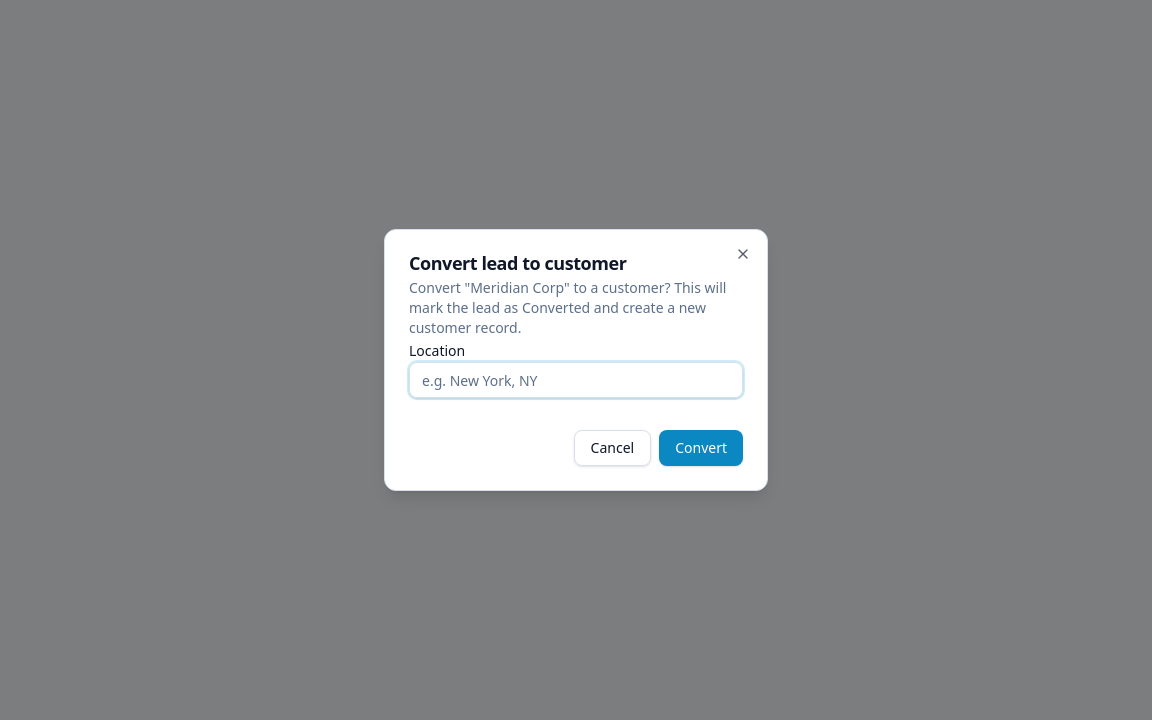
Test: ConvertLeadDialog › shows a validation error when converting without a location
Click the button "Convert": [701, 448] box [659,430,743,466]
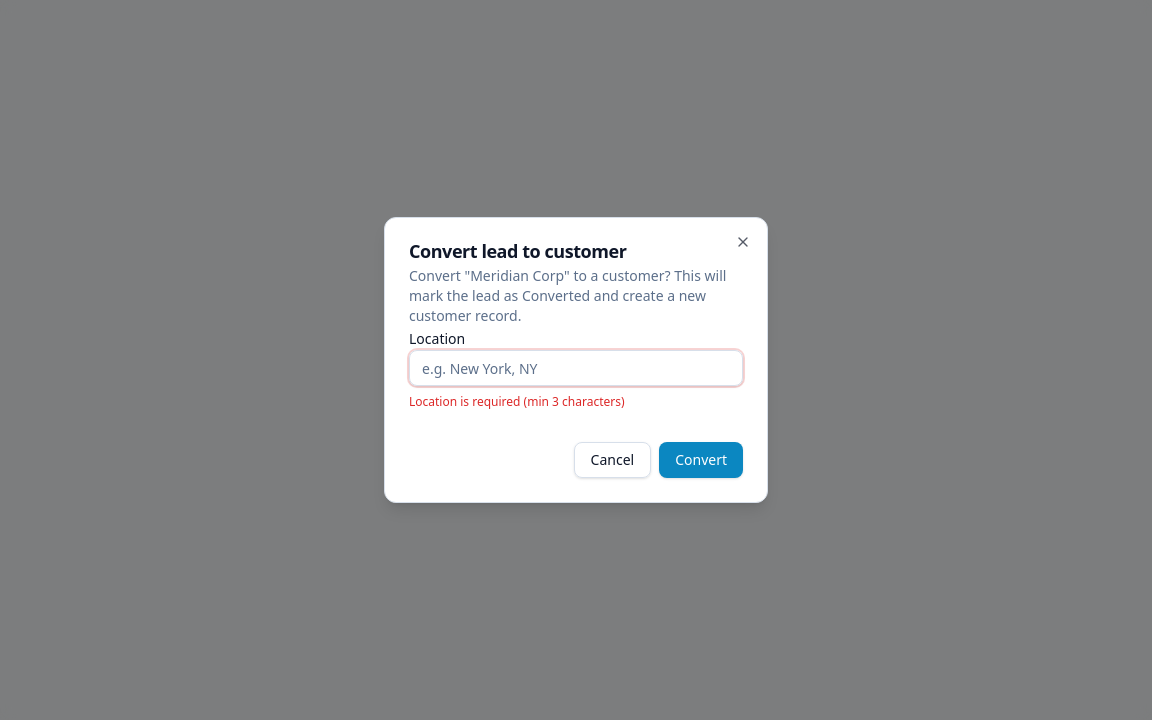
Expected: the text "Location is required (min 3 characters)" is shown, [409,393,624,410]
